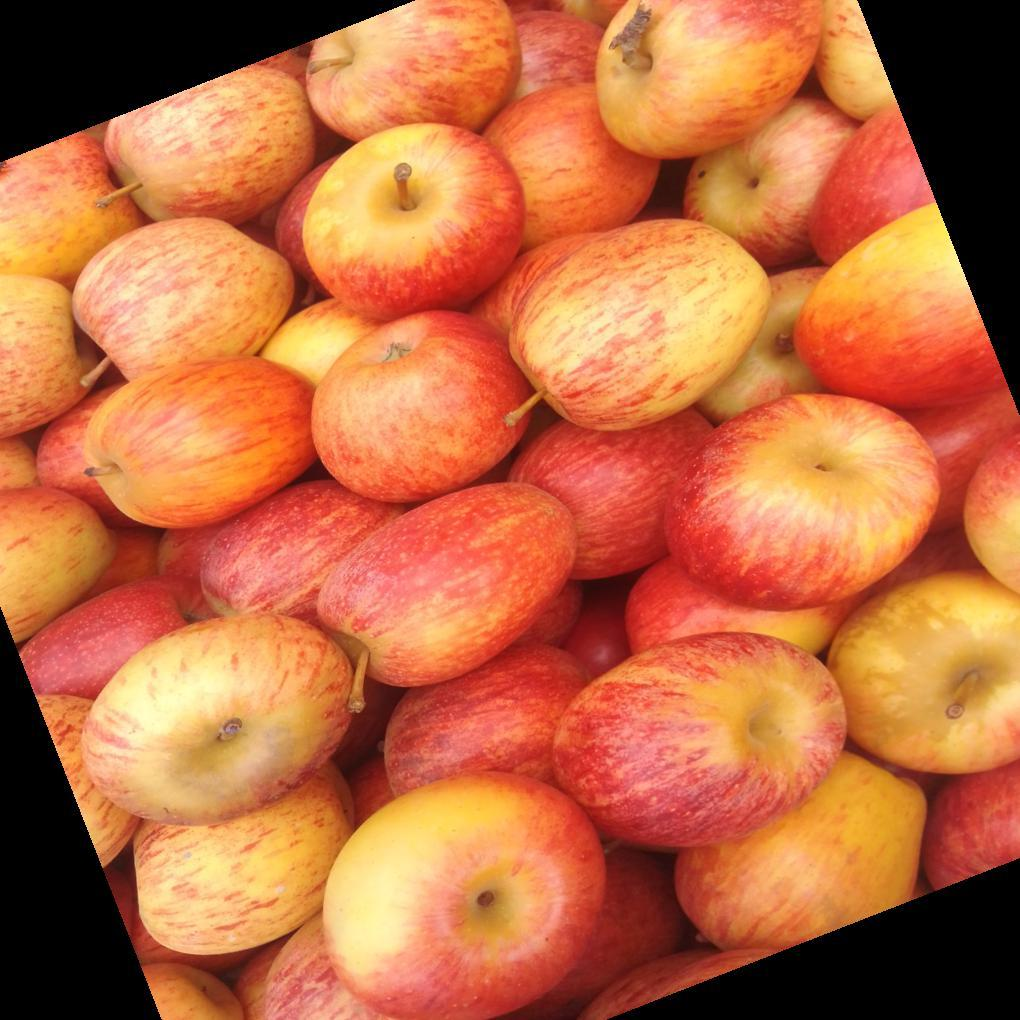FreshGuava: (52, 72, 1020, 1020)
